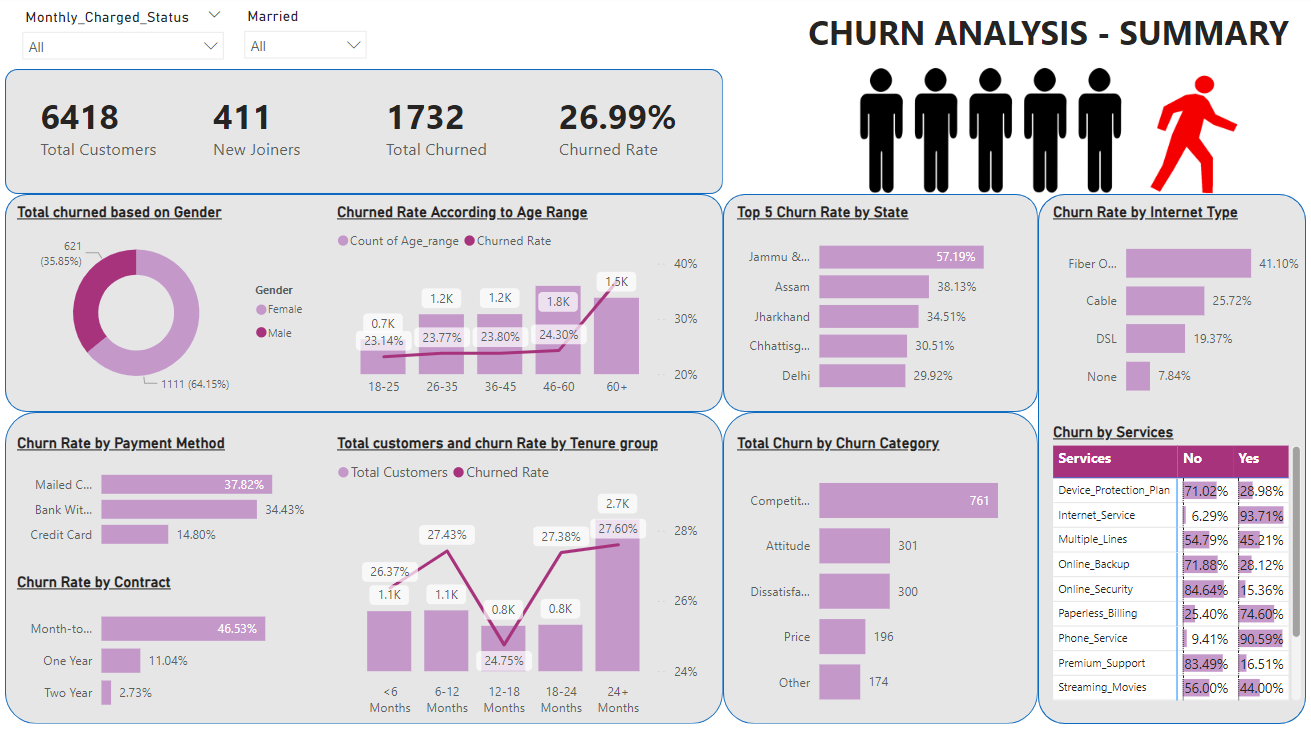

The page's visual inventory and layout, read from the dashboard file:
{"tool":"powerbi","page":{"name":"Dashboard","canvas":[1280,720],"ordinal":0},"visuals":[{"type":"shape","box":[6.8,71,698.4,121.6],"z":0},{"type":"shape","box":[6.8,404.6,698.4,303.5],"z":1000},{"type":"shape","box":[6.8,192.6,698.4,212],"z":2000},{"type":"shape","box":[1011.6,192.6,260.7,515.5],"z":3000},{"type":"shape","box":[705.2,404.6,306.4,303.5],"z":4000},{"type":"shape","box":[705.2,192.6,306.4,212],"z":5000},{"type":"multiRowCard","fields":{"Values":["measures_table.total_customers","measures_table.new_joiners","measures_table.total_churned","measures_table.churned_rate"]},"box":[36,88.5,677.9,86.6],"z":6000},{"type":"donutChart","title":"Total churned based on Gender","fields":{"Y":["measures_table.total_churned"],"Category":["prod_Churn_analysis.Gender"]},"box":[13.6,202.3,297.6,195.5],"z":7000},{"type":"lineStackedColumnComboChart","title":"Churned Rate According to Age Range","fields":{"Category":["dup_prod_churn.Age_range"],"Y2":["measures_table.churned_rate"],"Y":["CountNonNull(dup_prod_churn.Age_range)"]},"box":[324.9,202.3,360.9,195.5],"z":8000},{"type":"clusteredBarChart","title":"Churn Rate by Payment Method","fields":{"Category":["prod_Churn_analysis.Payment_Method"],"Y":["measures_table.churned_rate"]},"box":[13.6,427,297.6,121.6],"z":9000},{"type":"clusteredBarChart","title":"Churn Rate by Contract","fields":{"Category":["prod_Churn_analysis.Contract"],"Y":["measures_table.churned_rate"]},"box":[13.6,562.2,297.6,145.9],"z":10000},{"type":"lineStackedColumnComboChart","title":"Total customers and churn Rate by Tenure group","fields":{"Category":["tenure.tenure_grp"],"Y":["measures_table.total_customers"],"Y2":["measures_table.churned_rate"]},"box":[324.9,427,360.9,281.1],"z":11000},{"type":"clusteredBarChart","title":"Top 5 Churn Rate by State","fields":{"Category":["prod_Churn_analysis.State"],"Y":["measures_table.churned_rate"]},"box":[713.9,202.3,288.9,195.5],"z":12000},{"type":"clusteredBarChart","title":"Total Churn by Churn Category","fields":{"Category":["prod_Churn_analysis.Churn_Category"],"Y":["measures_table.total_churned"]},"box":[713.9,427,288.9,281.1],"z":13000},{"type":"clusteredBarChart","title":"Churn Rate by Internet Type","fields":{"Category":["prod_Churn_analysis.Internet_Type"],"Y":["measures_table.churned_rate"]},"box":[1021.3,202.3,250.9,202.3],"z":14000},{"type":"pivotTable","title":"Churn by Services","fields":{"Rows":["prod_services.Services"],"Columns":["prod_services.Status"],"Values":["Sum(prod_services.Churn_Status)"]},"box":[1021.3,416.3,250.9,274.3],"z":15000},{"type":"slicer","fields":{"Values":["prod_Churn_analysis.Monthly_Charged_Status"]},"box":[13.6,6.8,215.9,58.4],"z":16000},{"type":"slicer","fields":{"Values":["prod_Churn_analysis.Married"]},"box":[229.5,5.8,139.1,61.3],"z":17000},{"type":"textbox","box":[783,7.8,489.2,57.4],"z":18000},{"type":"image","box":[764.5,37,515.5,198.4],"z":19000}]}

Visuals, with their boxes in screenshot pixels (x1, y1, x2, y2), scaled from the page's 1280x720 canvas onto the 1311x729 screenshot:
shape: left=7, top=72, right=722, bottom=195
shape: left=7, top=410, right=722, bottom=717
shape: left=7, top=195, right=722, bottom=410
shape: left=1036, top=195, right=1303, bottom=717
shape: left=722, top=410, right=1036, bottom=717
shape: left=722, top=195, right=1036, bottom=410
multiRowCard - measures_table.total_customers x measures_table.new_joiners: left=37, top=90, right=731, bottom=177
"Total churned based on Gender" donutChart: left=14, top=205, right=319, bottom=403
"Churned Rate According to Age Range" lineStackedColumnComboChart: left=333, top=205, right=702, bottom=403
"Churn Rate by Payment Method" clusteredBarChart: left=14, top=432, right=319, bottom=555
"Churn Rate by Contract" clusteredBarChart: left=14, top=569, right=319, bottom=717
"Total customers and churn Rate by Tenure group" lineStackedColumnComboChart: left=333, top=432, right=702, bottom=717
"Top 5 Churn Rate by State" clusteredBarChart: left=731, top=205, right=1027, bottom=403
"Total Churn by Churn Category" clusteredBarChart: left=731, top=432, right=1027, bottom=717
"Churn Rate by Internet Type" clusteredBarChart: left=1046, top=205, right=1303, bottom=410
"Churn by Services" pivotTable: left=1046, top=422, right=1303, bottom=699
slicer - prod_Churn_analysis.Monthly_Charged_Status: left=14, top=7, right=235, bottom=66
slicer - prod_Churn_analysis.Married: left=235, top=6, right=378, bottom=68
textbox: left=802, top=8, right=1303, bottom=66
image: left=783, top=37, right=1310, bottom=238
